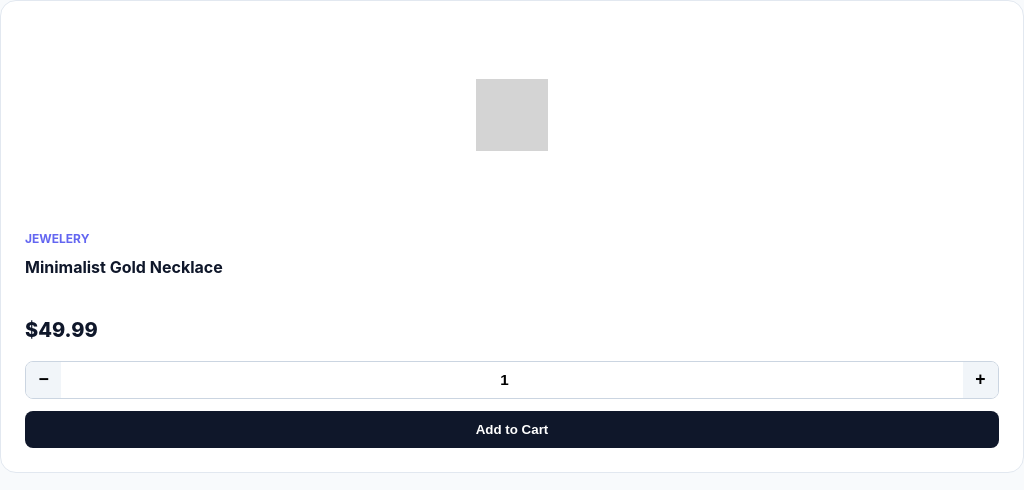
Test: ProductCard Component › increments and decrements quantity when + and - buttons are clicked
Check: the number field named "product quantity" holds "1", box [61,362,963,398]
Click the button named "increase quantity" at (980, 380), box [963,362,998,398]
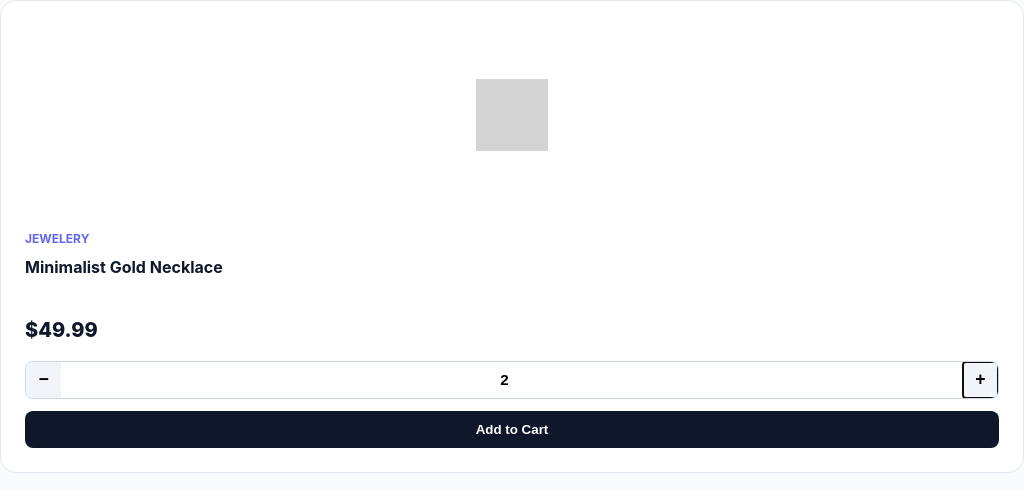
Click the button named "increase quantity" at (980, 380), box [963,362,998,398]
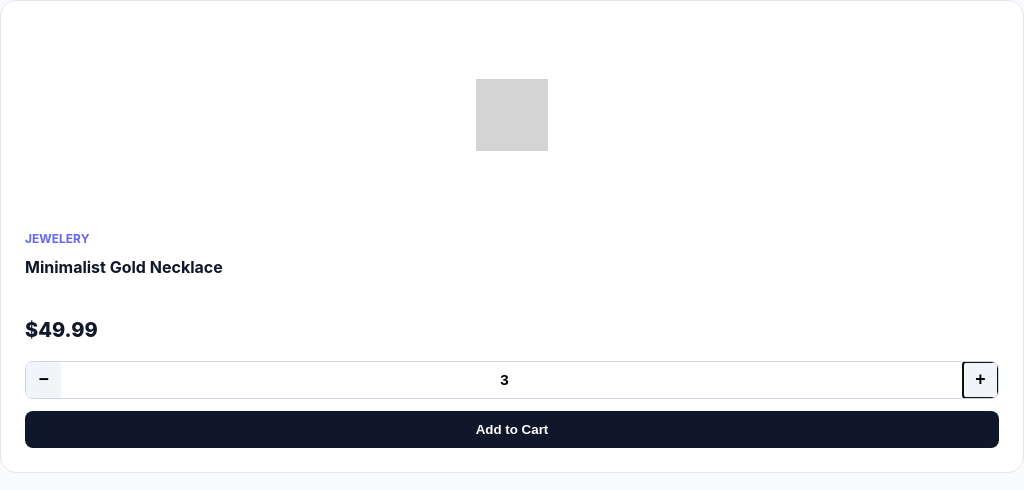
Check: the number field named "product quantity" holds "3", box [61,362,963,398]
Click the button named "decrease quantity" at (44, 380), box [26,362,61,398]
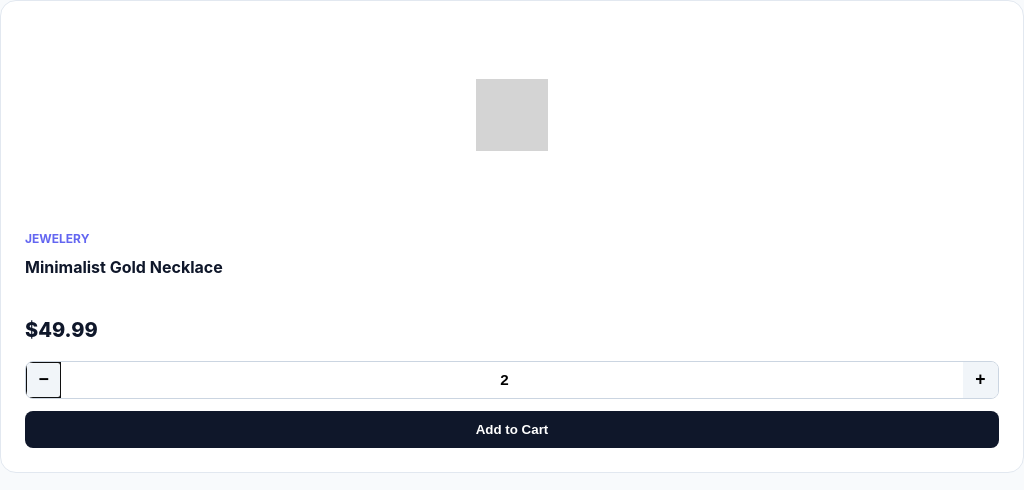
Check: the number field named "product quantity" holds "2", box [61,362,963,398]
